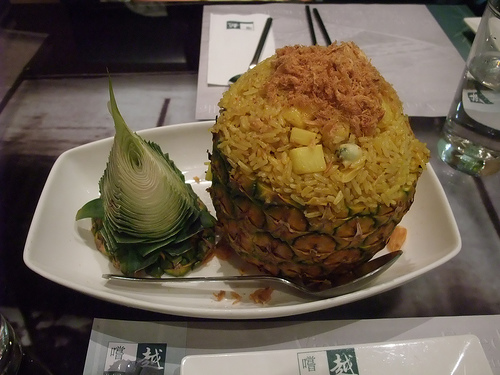pineapple: (207, 41, 432, 290)
